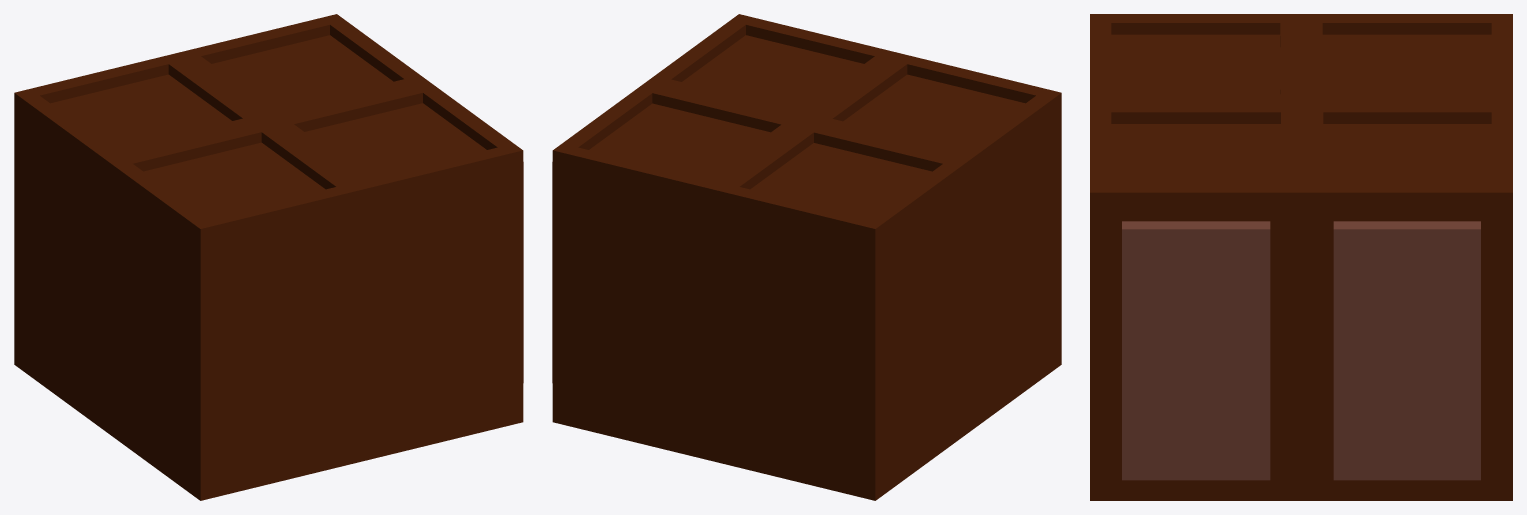
Rendered from MesaDeNoche.fbx.
3 renders of one model, left to right at view 1: azimuth 30°, elevation 25°; view 2: azimuth 150°, elevation 25°; view 3: azimuth 270°, elevation 25°, orthographic. The views are drawn at different scales.
Visible parts, largest first — view 1: Cube; view 2: Cube; view 3: Cube.
Part boxes in pixels (x1,y1,x2,y2): Cube: [14, 14, 523, 500]; Cube: [552, 14, 1061, 500]; Cube: [1090, 14, 1512, 500].
Size of the model in its own units: 209 by 161 by 200.
